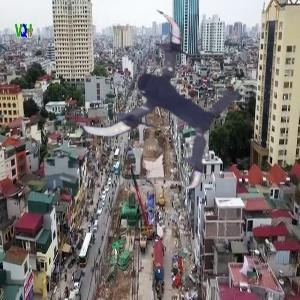drone: (81, 15, 245, 179)
